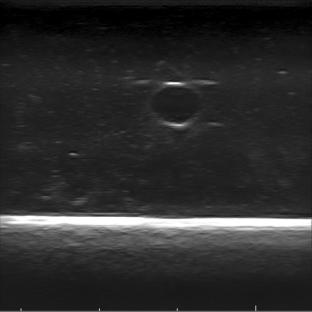vessel: (148, 79, 204, 129)
